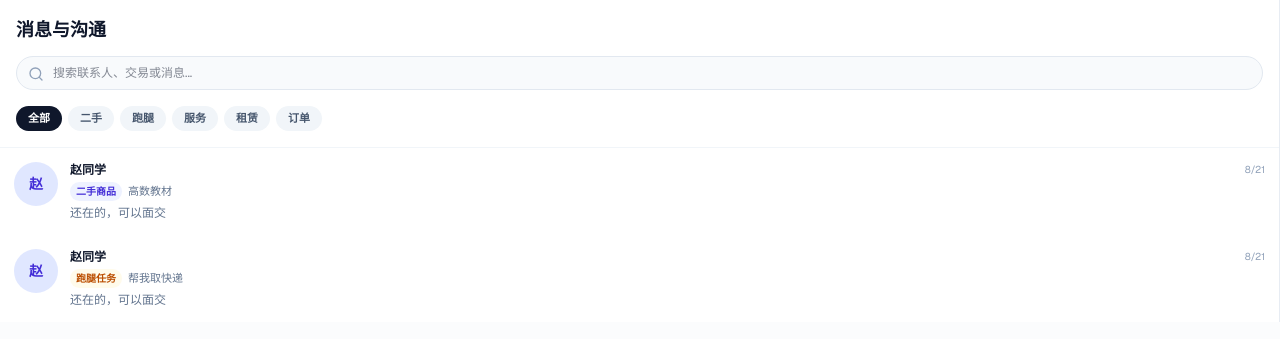
Test case: ConversationList › filters items by biz type tab
Step 1. Click the button "跑腿" → (143, 118), box [120, 106, 166, 130]
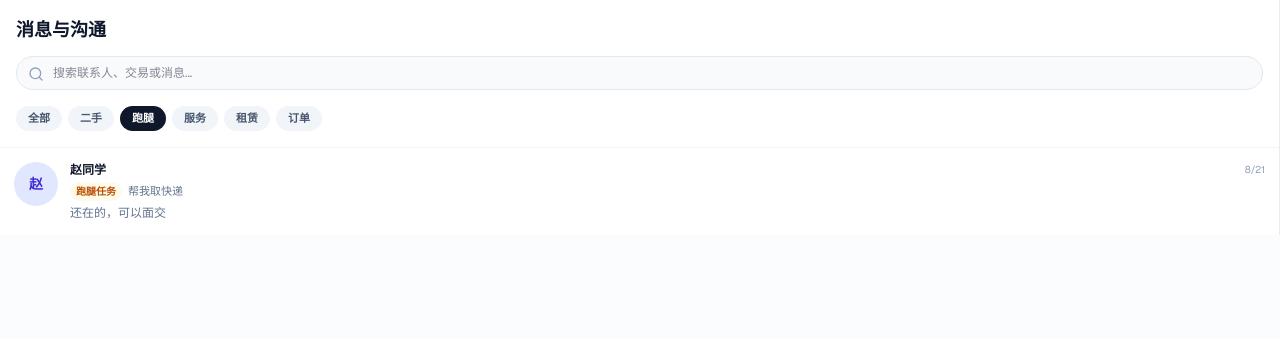
Expected: the text "帮我取快递" is shown, [128, 183, 183, 199]
Expected: the link "高数教材" is gone
